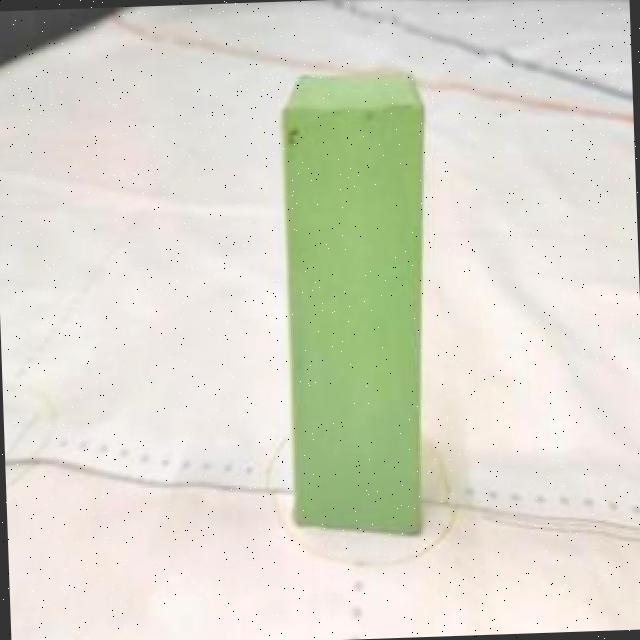greenbox: (280, 71, 443, 542)
